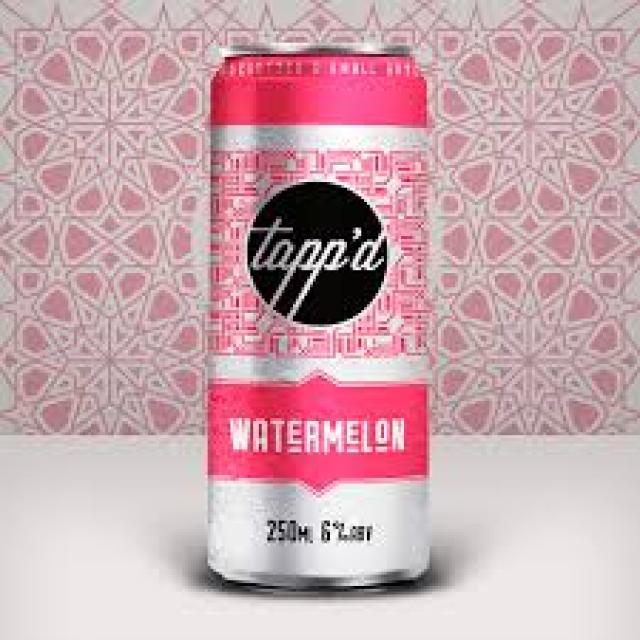Cans: (196, 31, 444, 592)
